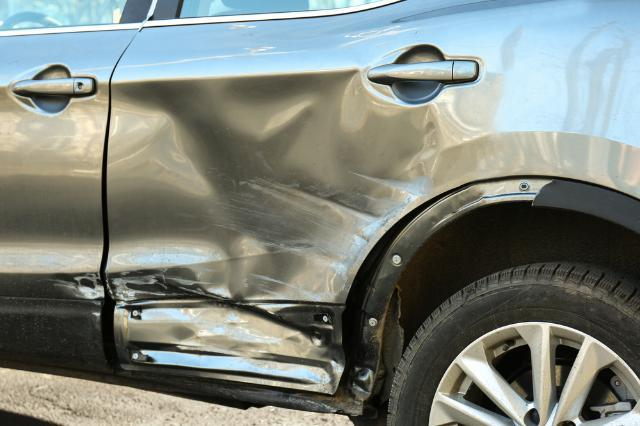dent: (117, 67, 447, 365), (55, 273, 104, 298)
